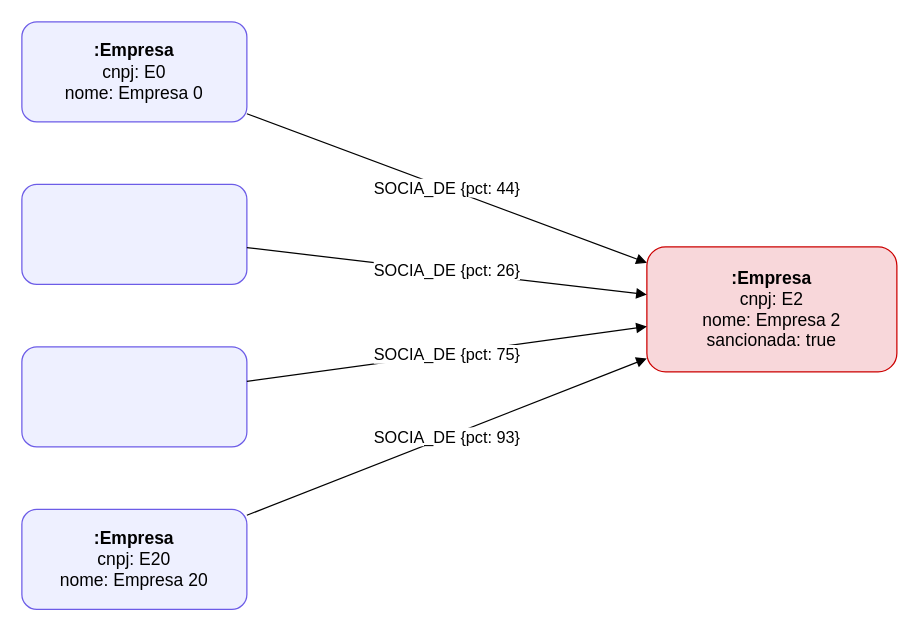
The diagram is 919 pixels wide and 631 high, and some of its shapes have lost their labels. The box of each missing label's shape, as (x1, y1, x2, y2) in pixels:
:Empresa cnpj: E13 nome: Empresa 13: (21, 346, 247, 447)
:Empresa cnpj: E9 nome: Empresa 9: (21, 183, 247, 284)
